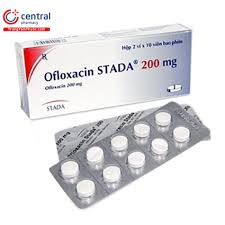Ofloxacin: (43, 68, 93, 81)
